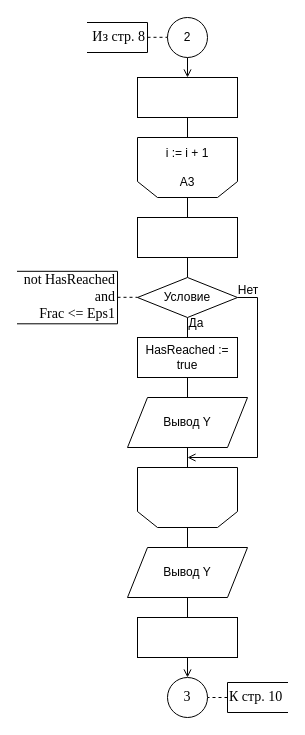
The diagram is 305 pixels wide and 735 high, and some of its shapes have lost their labels. The shapes that lost their labels are listed below. From the top down, each one's centre as x and y in pixels, then its label:
At [187,97]: "Denum := Denum * (4*k+1 - i)".
At [187,237]: "Frac := Num / Denum".
At [187,497]: "Frac <= Eps2 A2".
At [187,637]: "X := X + HX".
